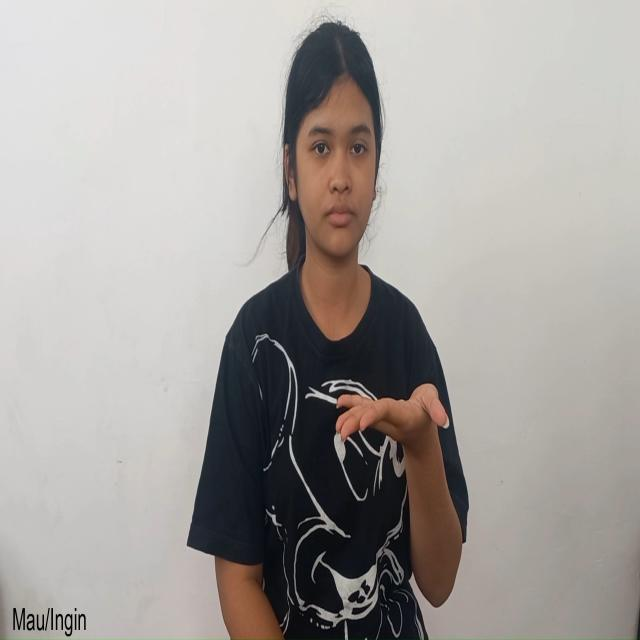Mau-Ingin -BISINDO-: (334, 381, 465, 612)
